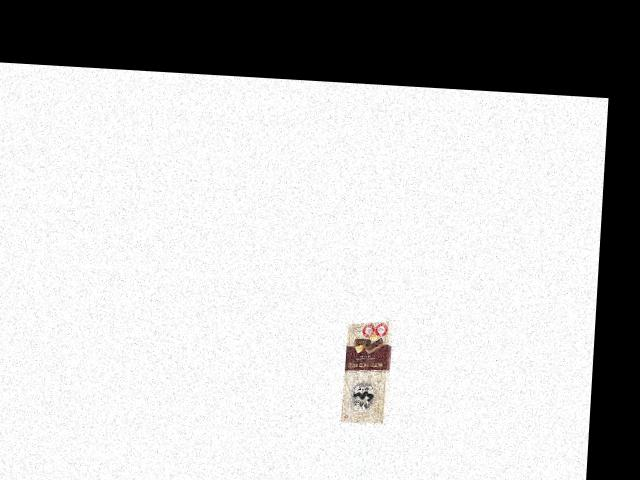chocolate: (339, 317, 401, 425)
